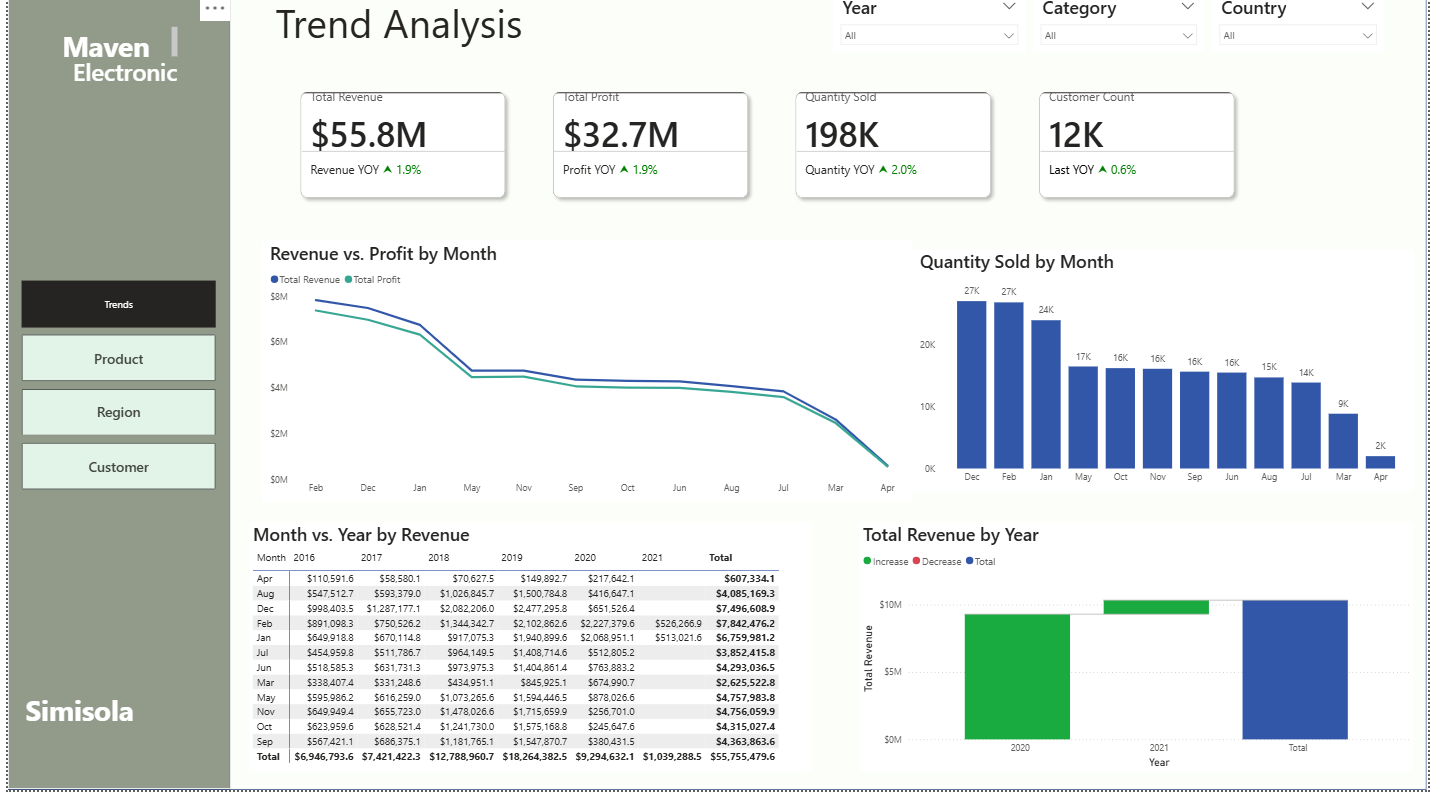

This screenshot's page, from the dashboard's own definition file:
{"tool":"powerbi","page":{"name":"Trends","canvas":[1920,1080],"ordinal":0},"visuals":[{"type":"shape","box":[1.9,0,1917,1079.2],"z":0},{"type":"cardVisual","fields":{"Data":["Measure_.Customer Count"]},"box":[1377.4,118.9,298.1,177.4],"z":1000},{"type":"clusteredColumnChart","title":"Quantity Sold by Month","fields":{"Category":["Calendar.Month"],"Y":["Measure_.Quantity Sold"]},"box":[1222.6,349.1,679.2,326.4],"z":2000},{"type":"slicer","fields":{"Values":["Calendar.Year"]},"box":[1116.2,0,260.5,81.4],"z":3000},{"type":"lineChart","title":"Revenue vs. Profit by Month","fields":{"Category":["Calendar.Month"],"Y":["Measure_.Total Revenue"],"Y2":["Measure_.Total Profit"]},"box":[343.4,335.8,879.2,352.8],"z":4000},{"type":"pivotTable","title":"Month vs. Year by Revenue","fields":{"Rows":["Calendar.Month"],"Columns":["Calendar.Year"],"Values":["Measure_.Total Revenue"]},"box":[326.4,717,760.4,337.7],"z":5000},{"type":"waterfallChart","fields":{"Y":["Measure_.Total Revenue"],"Category":["Calendar.Year"]},"box":[1150.9,717,749.1,337.7],"z":6000},{"type":"slicer","fields":{"Values":["Products.Category"]},"box":[1386.6,0,231.6,81.4],"z":7000},{"type":"slicer","fields":{"Values":["Stores.Country"]},"box":[1628.1,0,233.4,81.4],"z":8000},{"type":"textbox","box":[357.2,0,811.6,190.8],"z":9000},{"type":"shape","box":[0,0,301.1,1079.1],"z":10000},{"type":"cardVisual","fields":{"Data":["Measure_.Total Profit"]},"box":[720.8,118.9,298.1,177.4],"z":11000},{"type":"cardVisual","fields":{"Data":["Measure_.Total Revenue"]},"box":[379.2,118.9,311.3,177.4],"z":12000},{"type":"cardVisual","fields":{"Data":["Measure_.Quantity Sold"]},"box":[1049.1,118.9,298.1,177.4],"z":13000},{"type":"textbox","box":[66.9,41.6,166.4,54.3],"z":14000},{"type":"textbox","box":[83.2,81.4,217.1,57.9],"z":15000},{"type":"textbox","box":[18.1,942.5,381.7,88.6],"z":16000},{"type":"pageNavigator","box":[18.1,390.8,262.3,284],"z":17000}]}

Visuals, with their boxes on the page's 1920x1080 design canvas (x1, y1, x2, y2). These are canvas units, not pixel positions in the 1438x798 screenshot, which may show the page scaled, cropped or inside an application window:
shape: l=2, t=0, r=1919, b=1079
cardVisual - Measure_.Customer Count: l=1377, t=119, r=1676, b=296
"Quantity Sold by Month" clusteredColumnChart: l=1223, t=349, r=1902, b=676
slicer - Calendar.Year: l=1116, t=0, r=1377, b=81
"Revenue vs. Profit by Month" lineChart: l=343, t=336, r=1223, b=689
"Month vs. Year by Revenue" pivotTable: l=326, t=717, r=1087, b=1055
waterfallChart - Measure_.Total Revenue x Calendar.Year: l=1151, t=717, r=1900, b=1055
slicer - Products.Category: l=1387, t=0, r=1618, b=81
slicer - Stores.Country: l=1628, t=0, r=1862, b=81
textbox: l=357, t=0, r=1169, b=191
shape: l=0, t=0, r=301, b=1079
cardVisual - Measure_.Total Profit: l=721, t=119, r=1019, b=296
cardVisual - Measure_.Total Revenue: l=379, t=119, r=690, b=296
cardVisual - Measure_.Quantity Sold: l=1049, t=119, r=1347, b=296
textbox: l=67, t=42, r=233, b=96
textbox: l=83, t=81, r=300, b=139
textbox: l=18, t=942, r=400, b=1031
pageNavigator: l=18, t=391, r=280, b=675
